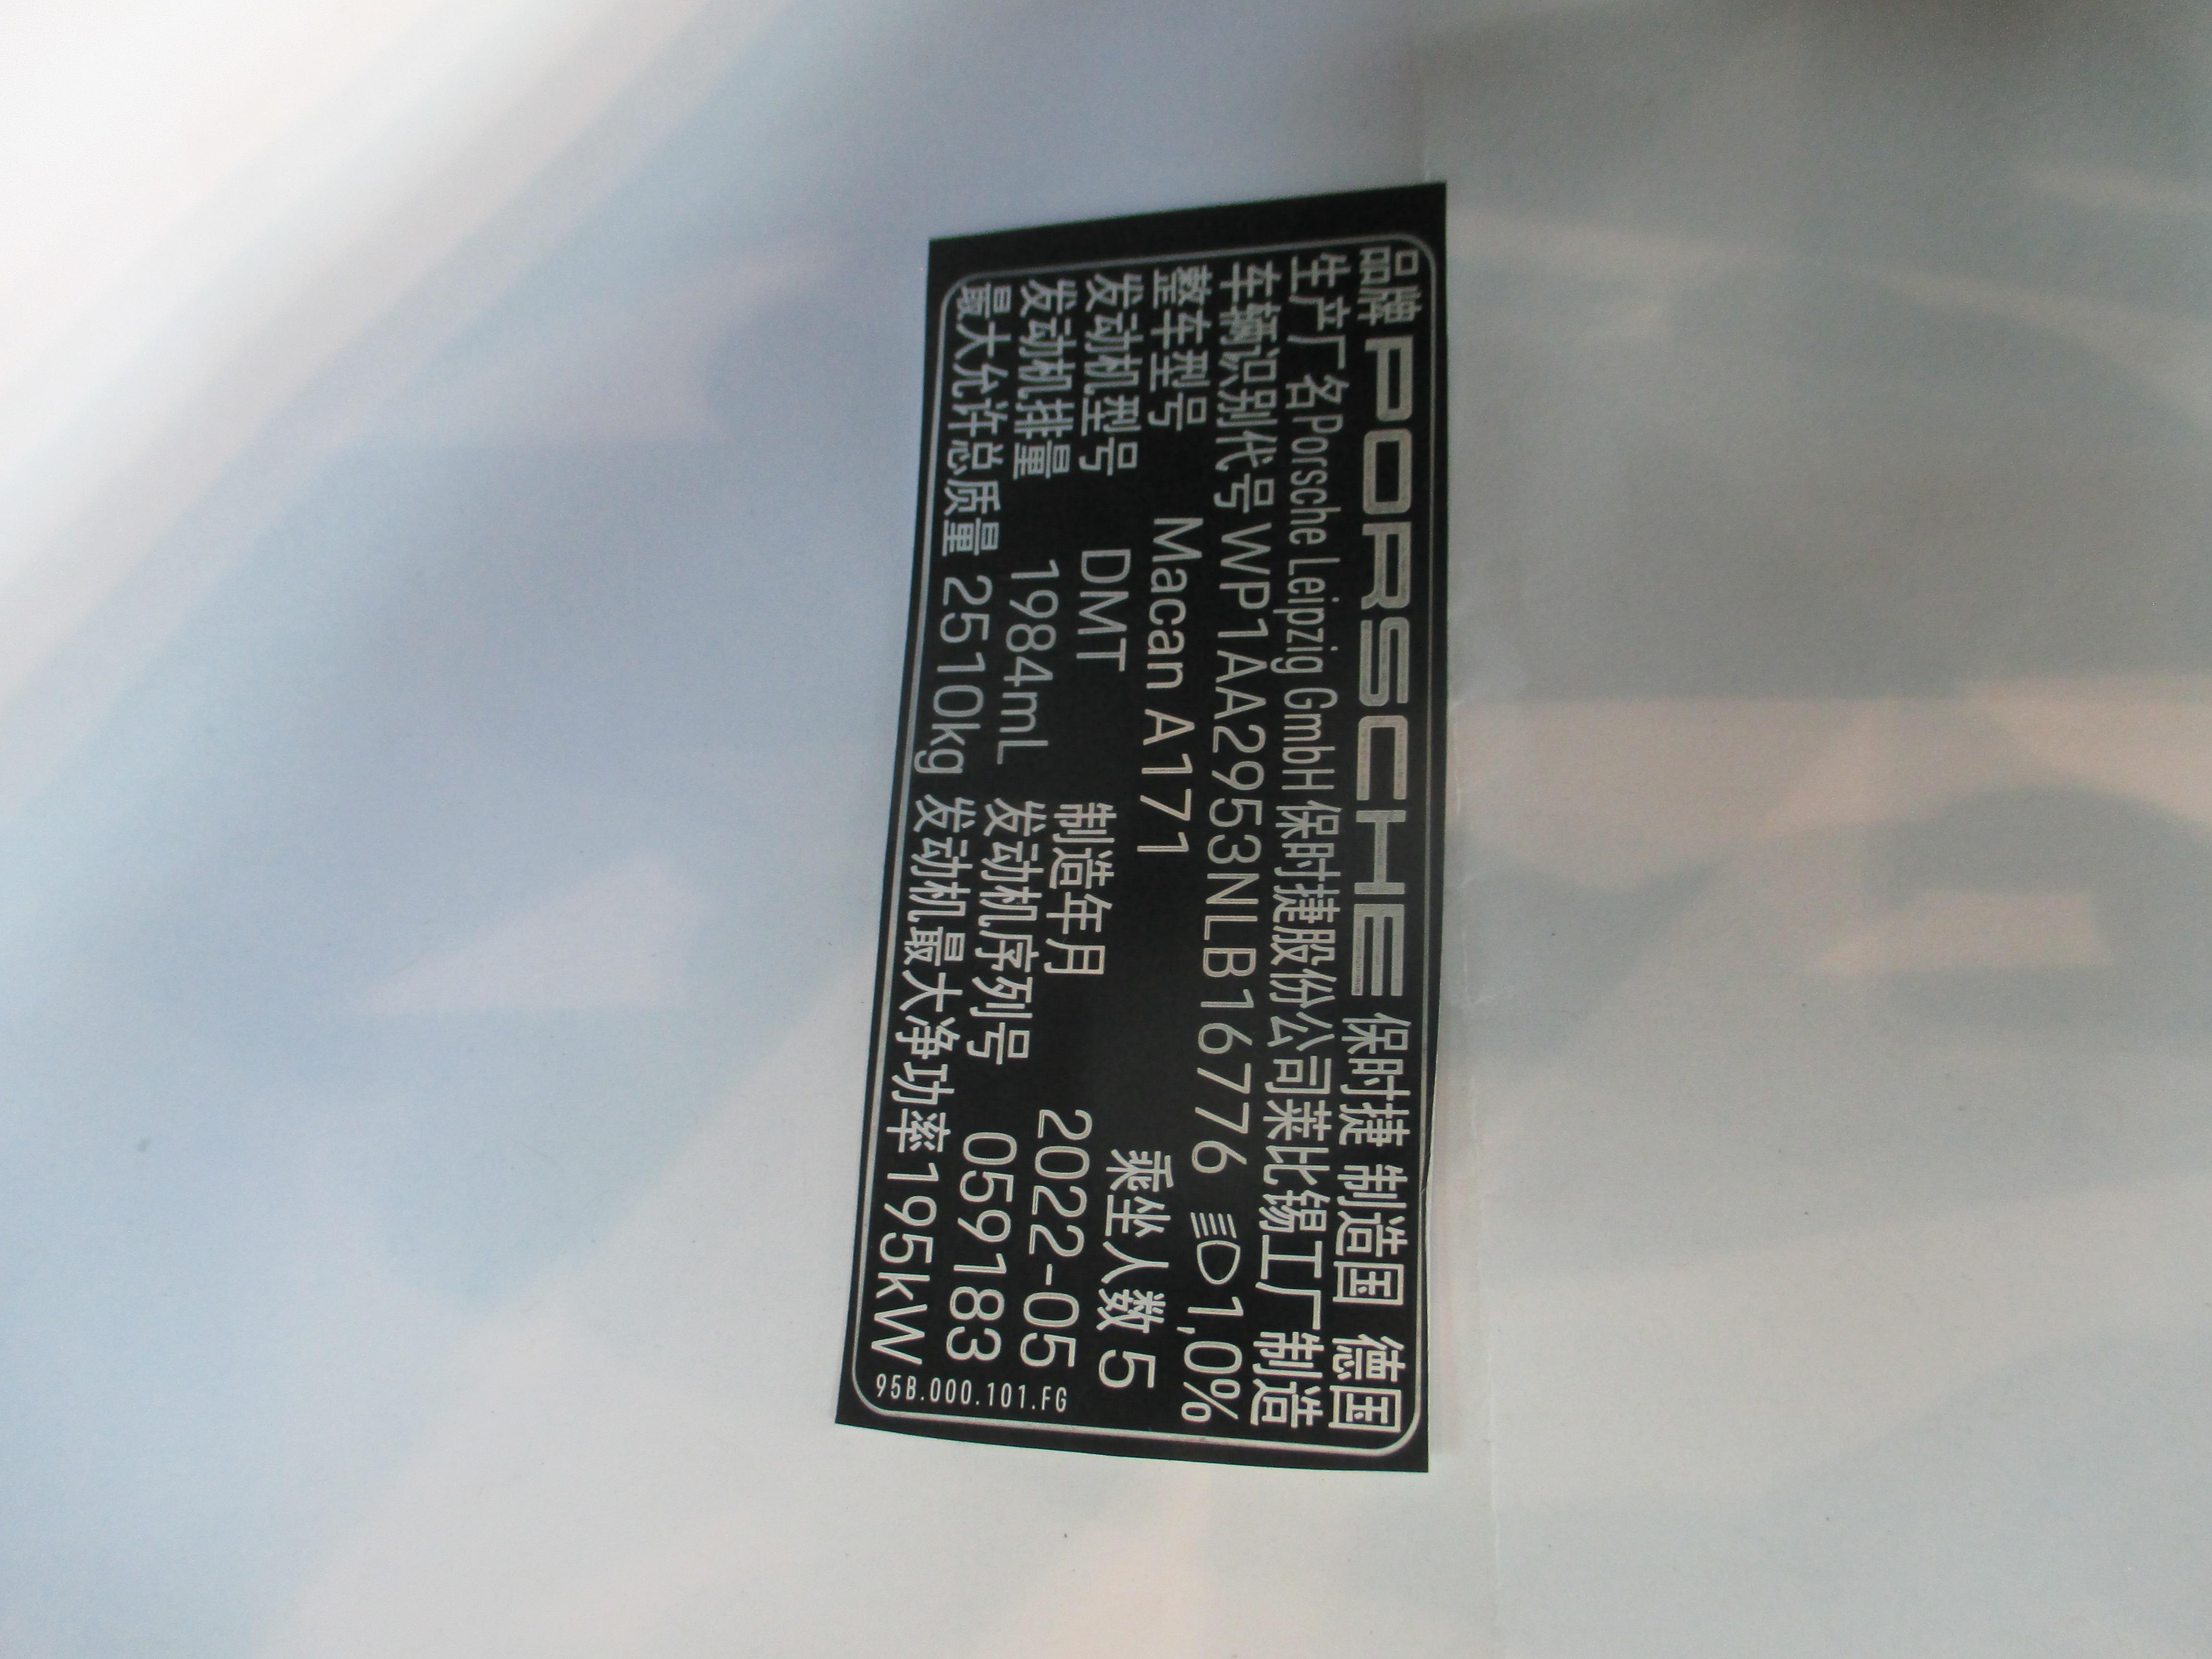Typlabel-China: (857, 240, 1430, 1448)
